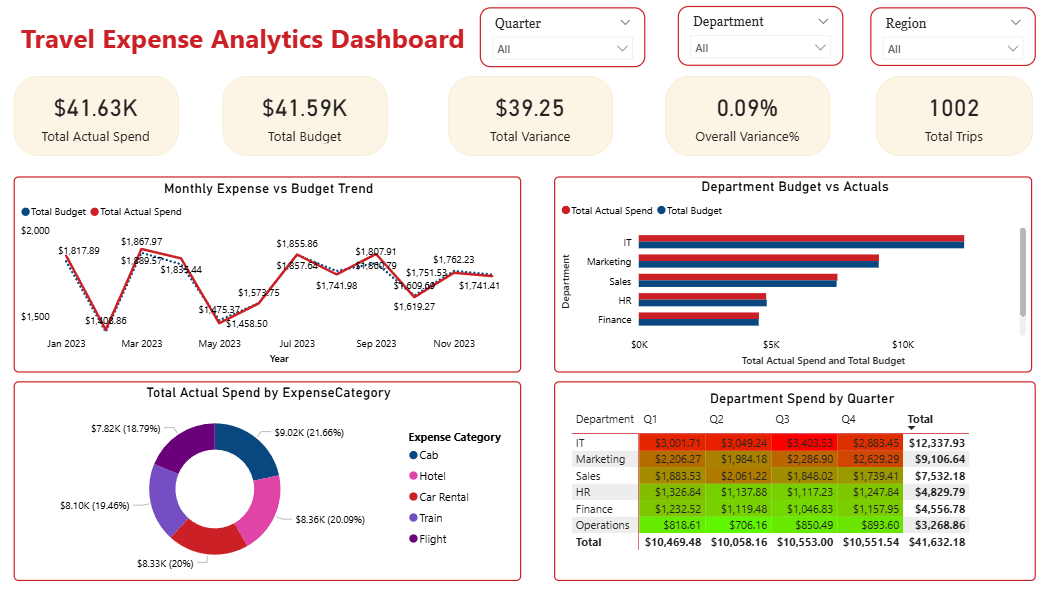

What the dashboard file says about the page in this screenshot:
{"tool":"powerbi","page":{"name":"Expense Dashboard","canvas":[1280,720],"ordinal":0},"visuals":[{"type":"textbox","box":[25,20,553.3,61.7],"z":0},{"type":"card","fields":{"Values":["TravelSheet.Total Actual Spend"]},"box":[24.2,93.5,199.9,96.7],"z":1000},{"type":"card","fields":{"Values":["TravelSheet.Total Budget"]},"box":[278.8,93.5,199.9,96.7],"z":2000},{"type":"card","fields":{"Values":["TravelSheet.Total Variance"]},"box":[551.2,93.5,199.9,96.7],"z":3000},{"type":"card","fields":{"Values":["TravelSheet.Overall Variance%"]},"box":[815.5,93.5,199.9,96.7],"z":4000},{"type":"lineChart","title":"Monthly Expense vs Budget Trend","fields":{"Y":["TravelSheet.Total Budget","TravelSheet.Total Actual Spend"],"Category":["TravelSheet.TripDate.Variation.Date Hierarchy.Year","TravelSheet.TripDate.Variation.Date Hierarchy.Month"]},"box":[24.2,215.1,615.3,237.8],"z":5000},{"type":"clusteredBarChart","title":"Department Budget vs Actuals","fields":{"Category":["TravelSheet.Department"],"Y":["TravelSheet.Total Actual Spend","TravelSheet.Total Budget"]},"box":[680.8,215.1,579.7,237.8],"z":6000},{"type":"donutChart","fields":{"Category":["TravelSheet.ExpenseCategory"],"Y":["TravelSheet.Total Actual Spend"]},"box":[24.2,462.9,615.3,242.1],"z":7000},{"type":"pivotTable","title":" Department Spend by Quarter","fields":{"Rows":["TravelSheet.Department"],"Columns":["TravelSheet.Quarter"],"Values":["TravelSheet.Total Actual Spend"]},"box":[680.8,462.9,583.9,242.1],"z":8000},{"type":"card","fields":{"Values":["TravelSheet.Total Trips"]},"box":[1070.2,93.5,190.2,96.7],"z":9000},{"type":"slicer","fields":{"Values":["TravelSheet.Quarter"]},"box":[589.6,10,200.8,72.6],"z":10000},{"type":"slicer","fields":{"Values":["TravelSheet.Department"]},"box":[830.3,8.5,200.8,72.6],"z":11000},{"type":"slicer","fields":{"Values":["TravelSheet.Region"]},"box":[1063.9,10,200.8,71.2],"z":12000}]}

Visuals, with their boxes in screenshot pixels (x1, y1, x2, y2), scaled from the page's 1280x720 canvas onto the 1048x590 screenshot:
textbox: x1=20 y1=16 x2=473 y2=67
card - TravelSheet.Total Actual Spend: x1=20 y1=77 x2=183 y2=156
card - TravelSheet.Total Budget: x1=228 y1=77 x2=392 y2=156
card - TravelSheet.Total Variance: x1=451 y1=77 x2=615 y2=156
card - TravelSheet.Overall Variance%: x1=668 y1=77 x2=831 y2=156
"Monthly Expense vs Budget Trend" lineChart: x1=20 y1=176 x2=524 y2=371
"Department Budget vs Actuals" clusteredBarChart: x1=557 y1=176 x2=1032 y2=371
donutChart - TravelSheet.ExpenseCategory x TravelSheet.Total Actual Spend: x1=20 y1=379 x2=524 y2=578
" Department Spend by Quarter" pivotTable: x1=557 y1=379 x2=1035 y2=578
card - TravelSheet.Total Trips: x1=876 y1=77 x2=1032 y2=156
slicer - TravelSheet.Quarter: x1=483 y1=8 x2=647 y2=68
slicer - TravelSheet.Department: x1=680 y1=7 x2=844 y2=66
slicer - TravelSheet.Region: x1=871 y1=8 x2=1035 y2=67
